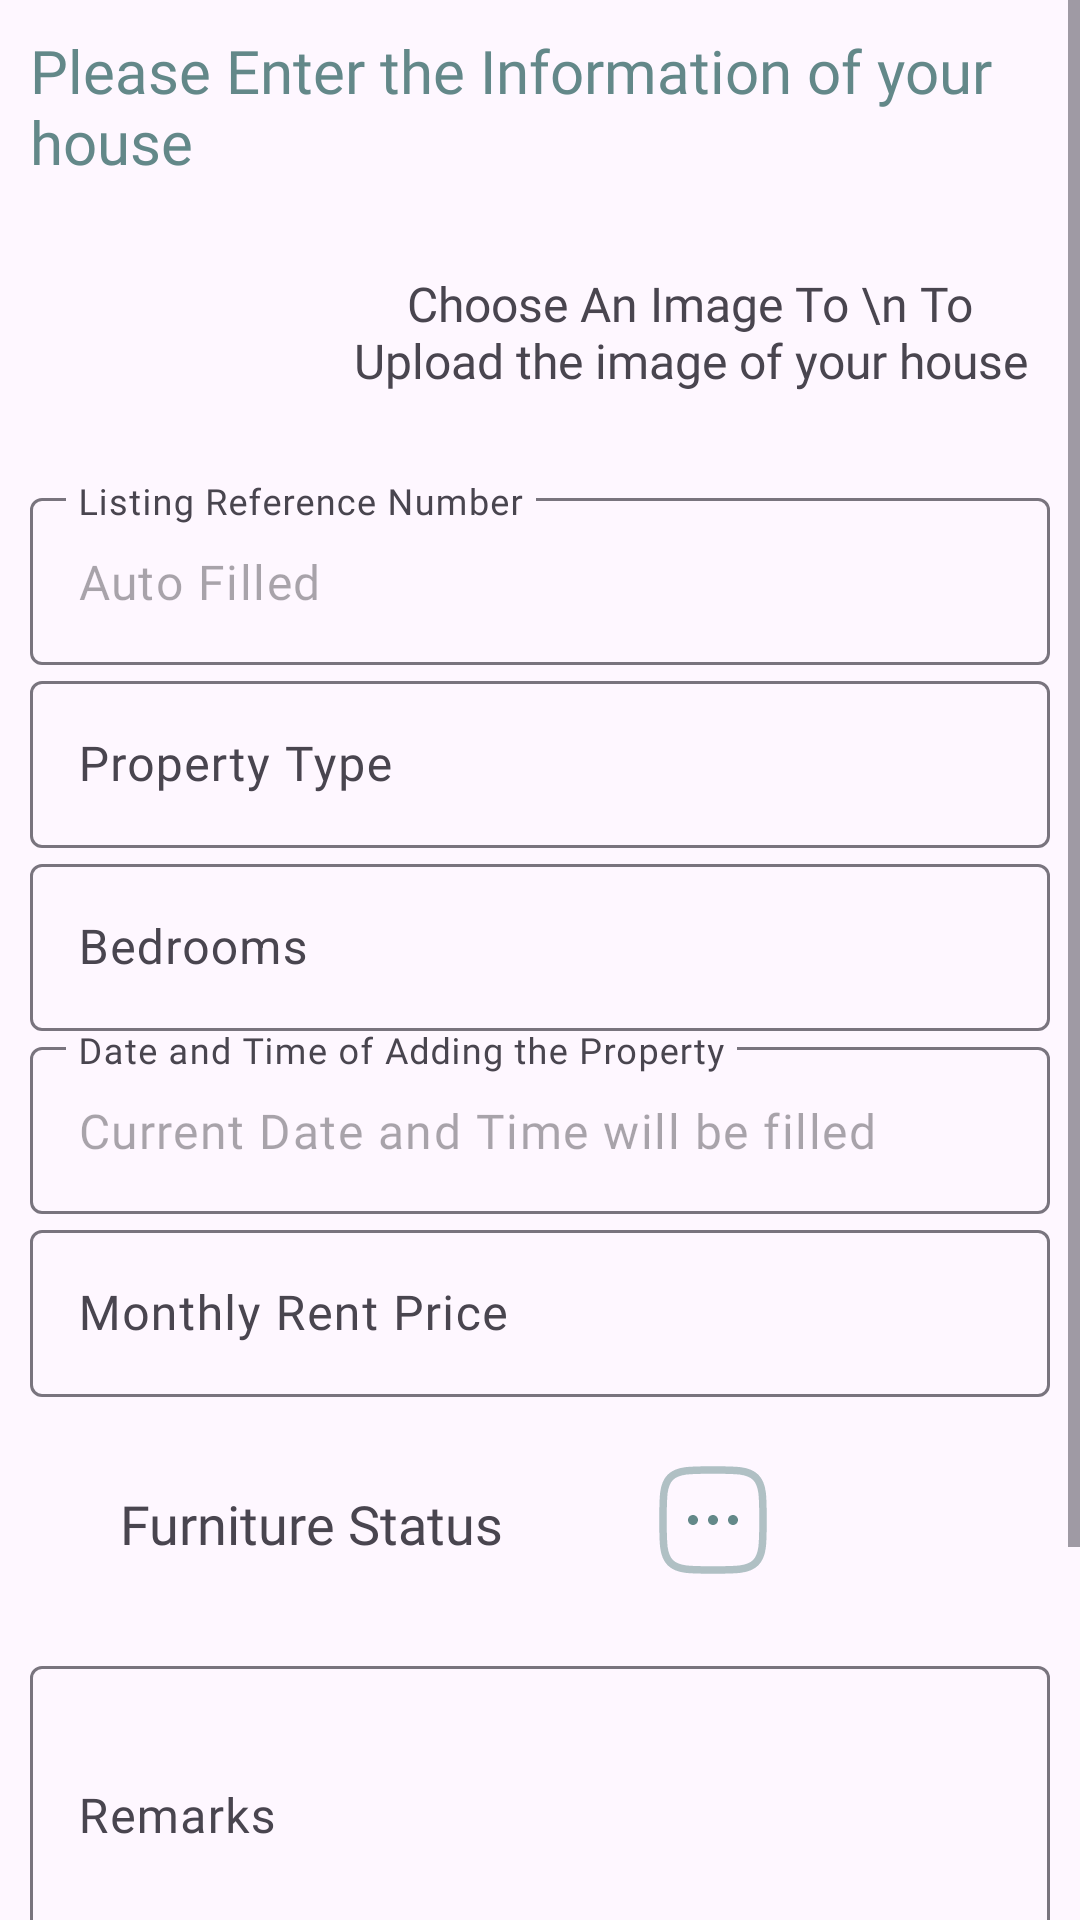

Screen size 1080 × 1920. Icon name, then its center in pixels as (x=x, y=y):
menu: (x=713, y=1520)
